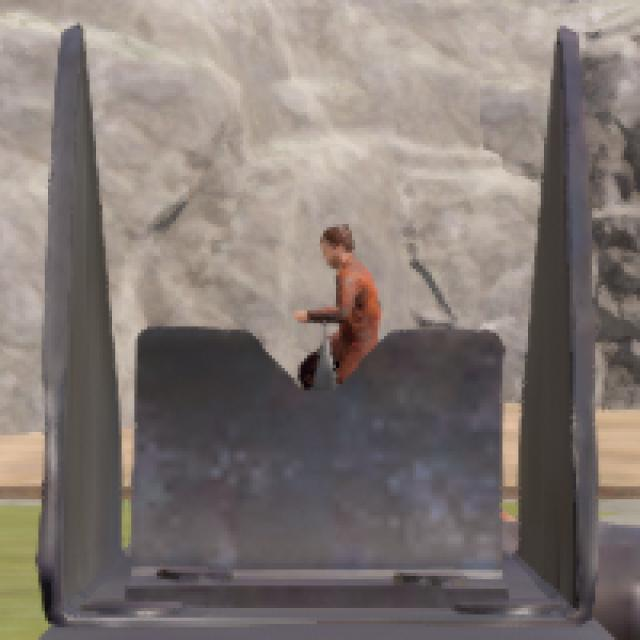Player: (300, 222, 382, 341)
